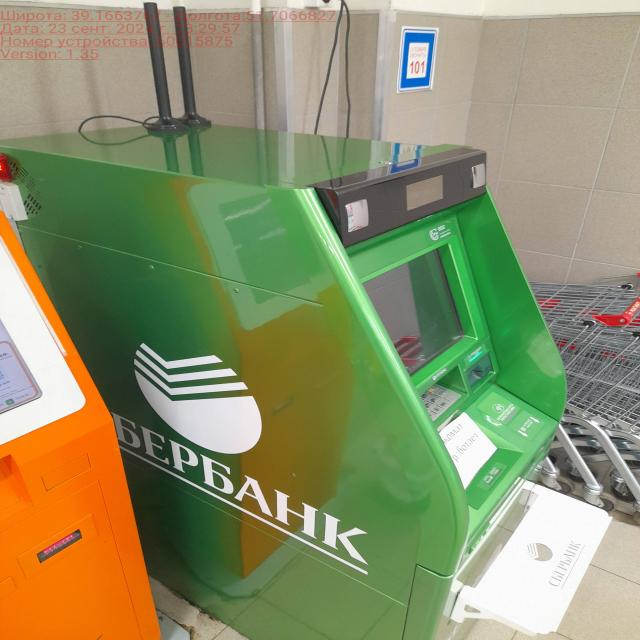bank: (0, 115, 577, 640)
